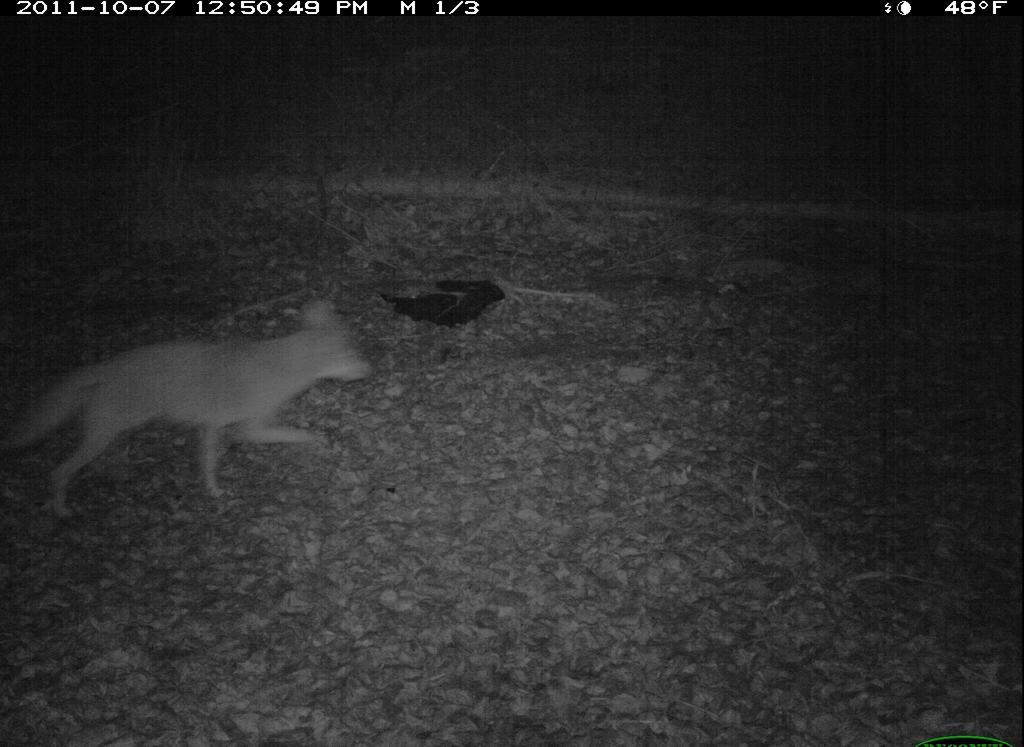coyote: (16, 314, 383, 507)
